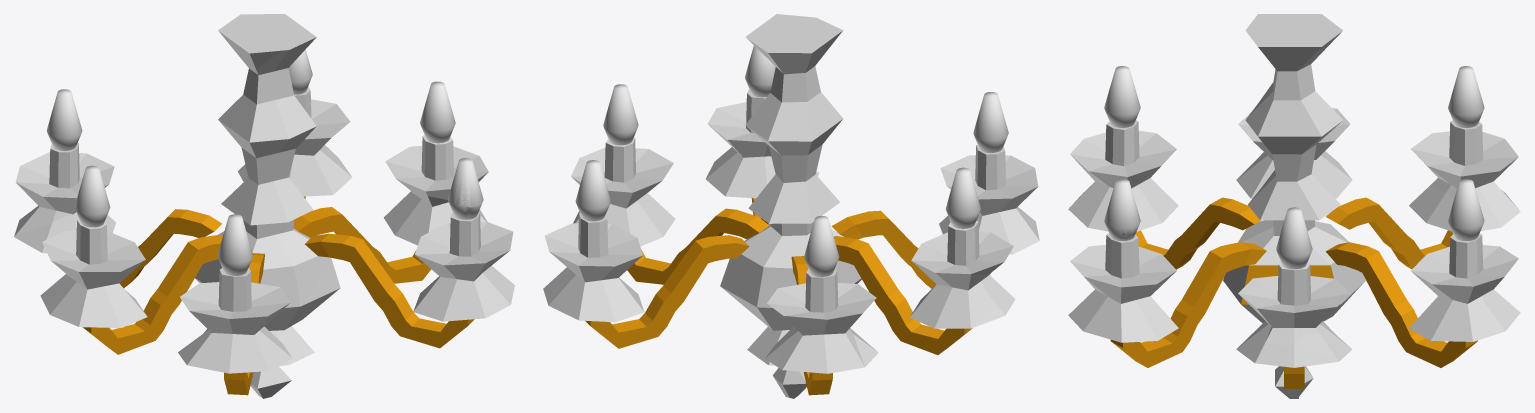
Rendered from ChandelierModified.fbx.
3 renders of one model, left to right at view 1: azimuth 30°, elevation 25°; view 2: azimuth 150°, elevation 25°; view 3: azimuth 270°, elevation 25°, orthographic.
Parts seen in each view (by area): view 1: Cube.001, Cube.001_cell.018, Cube.001_cell.019, Cube.001_cell.013, Cube.001_cell.030, Cube.001_cell.028, Cube.001_cell.015, Cube.001_cell.007, Cube.001_cell.034, Cube.001_cell.024, Cube.001_cell.020, Cube.001_cell.032 (+10 smaller); view 2: Cube.001, Cube.001_cell.030, Cube.001_cell.013, Cube.001_cell.008, Cube.001_cell.019, Cube.001_cell.007, Cube.001_cell.028, Cube.001_cell.018, Cube.001_cell.006, Cube.001_cell.015, Cube.001_cell.017; view 3: Cube.001, Cube.001_cell.030, Cube.001_cell.018, Cube.001_cell.007, Cube.001_cell.013, Cube.001_cell.015, Cube.001_cell.028, Cube.001_cell.008, Cube.001_cell.021, Cube.001_cell.027, Cube.001_cell.006, Cube.001_cell.034 (+7 smaller).
Part boxes in pixels (x1,y1,x2,y2): Cube.001: (14,14,513,398); Cube.001_cell.018: (218,37,331,311); Cube.001_cell.019: (40,230,199,354); Cube.001_cell.013: (14,143,114,236); Cube.001_cell.030: (238,99,352,197); Cube.001_cell.028: (315,166,485,283); Cube.001_cell.015: (417,213,514,340); Cube.001_cell.007: (385,135,488,199); Cube.001_cell.034: (48,89,82,150); Cube.001_cell.024: (420,85,454,143); Cube.001_cell.020: (120,209,207,288); Cube.001_cell.032: (220,218,252,275); Cube.001: (545,14,1039,398); Cube.001_cell.030: (543,223,728,342); Cube.001_cell.013: (767,269,876,373); Cube.001_cell.008: (720,254,806,398); Cube.001_cell.019: (865,240,1000,354); Cube.001_cell.007: (571,137,673,192); Cube.001_cell.028: (607,180,723,278); Cube.001_cell.018: (762,57,859,283); Cube.001_cell.006: (765,326,878,393); Cube.001_cell.015: (709,125,770,215); Cube.001_cell.017: (764,268,796,302); Cube.001: (1068,14,1520,398); Cube.001_cell.030: (1326,243,1520,367); Cube.001_cell.018: (1223,35,1341,281); Cube.001_cell.007: (1239,262,1350,345); Cube.001_cell.013: (1415,120,1520,214); Cube.001_cell.015: (1081,235,1176,363); Cube.001_cell.028: (1236,276,1338,388); Cube.001_cell.008: (1244,255,1365,398); Cube.001_cell.021: (1409,184,1453,231); Cube.001_cell.027: (1448,179,1475,240); Cube.001_cell.006: (1432,178,1516,248); Cube.001_cell.034: (1448,66,1475,127).
Bounding box in the file's own units: 437 × 354 × 396.
